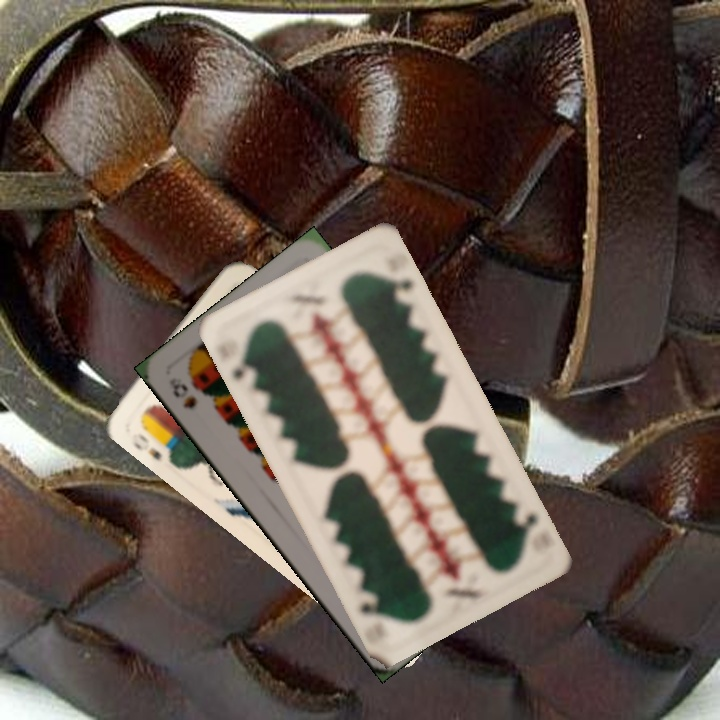EO: (127, 429, 165, 464)
G10: (509, 503, 542, 543), (228, 350, 259, 384)
S8: (168, 379, 200, 412)
